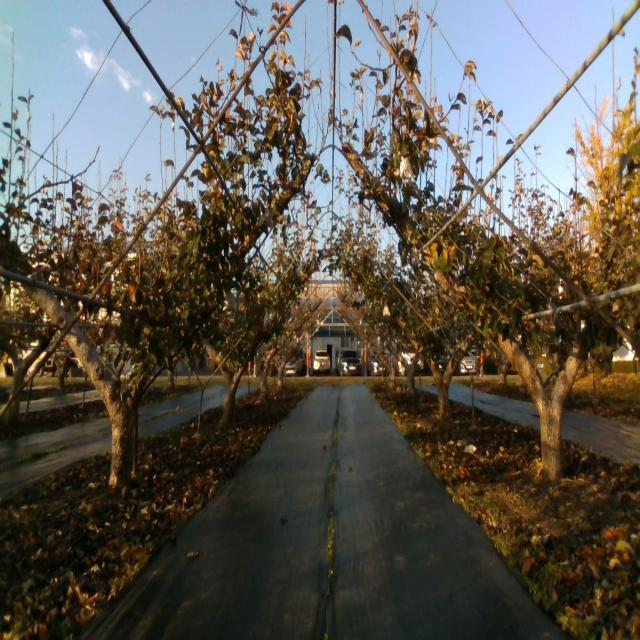pearbags: (400, 155, 414, 180), (258, 206, 273, 227), (224, 290, 236, 312)
